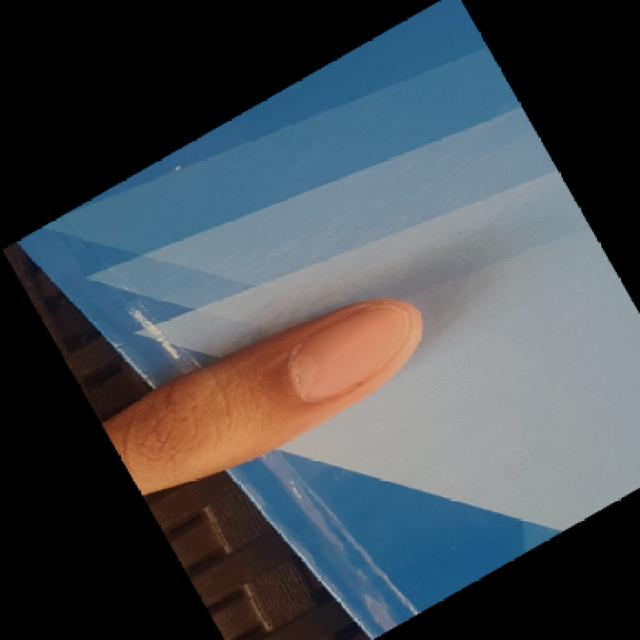Nail: (293, 305, 408, 398)
